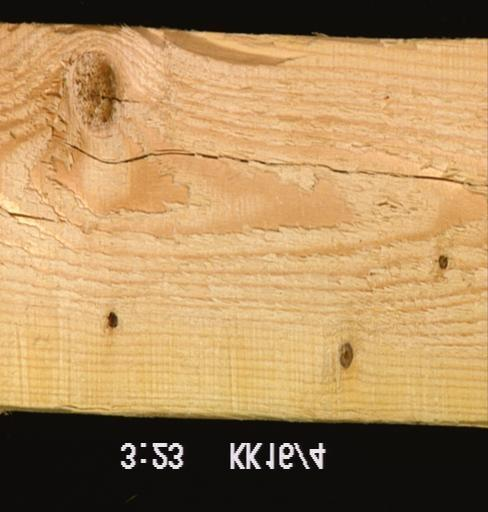small_knot: (434, 251, 449, 272)
sound_knot: (60, 45, 120, 137), (336, 340, 354, 370)
split: (47, 137, 487, 192), (0, 201, 64, 227)
wave: (125, 31, 425, 80)
